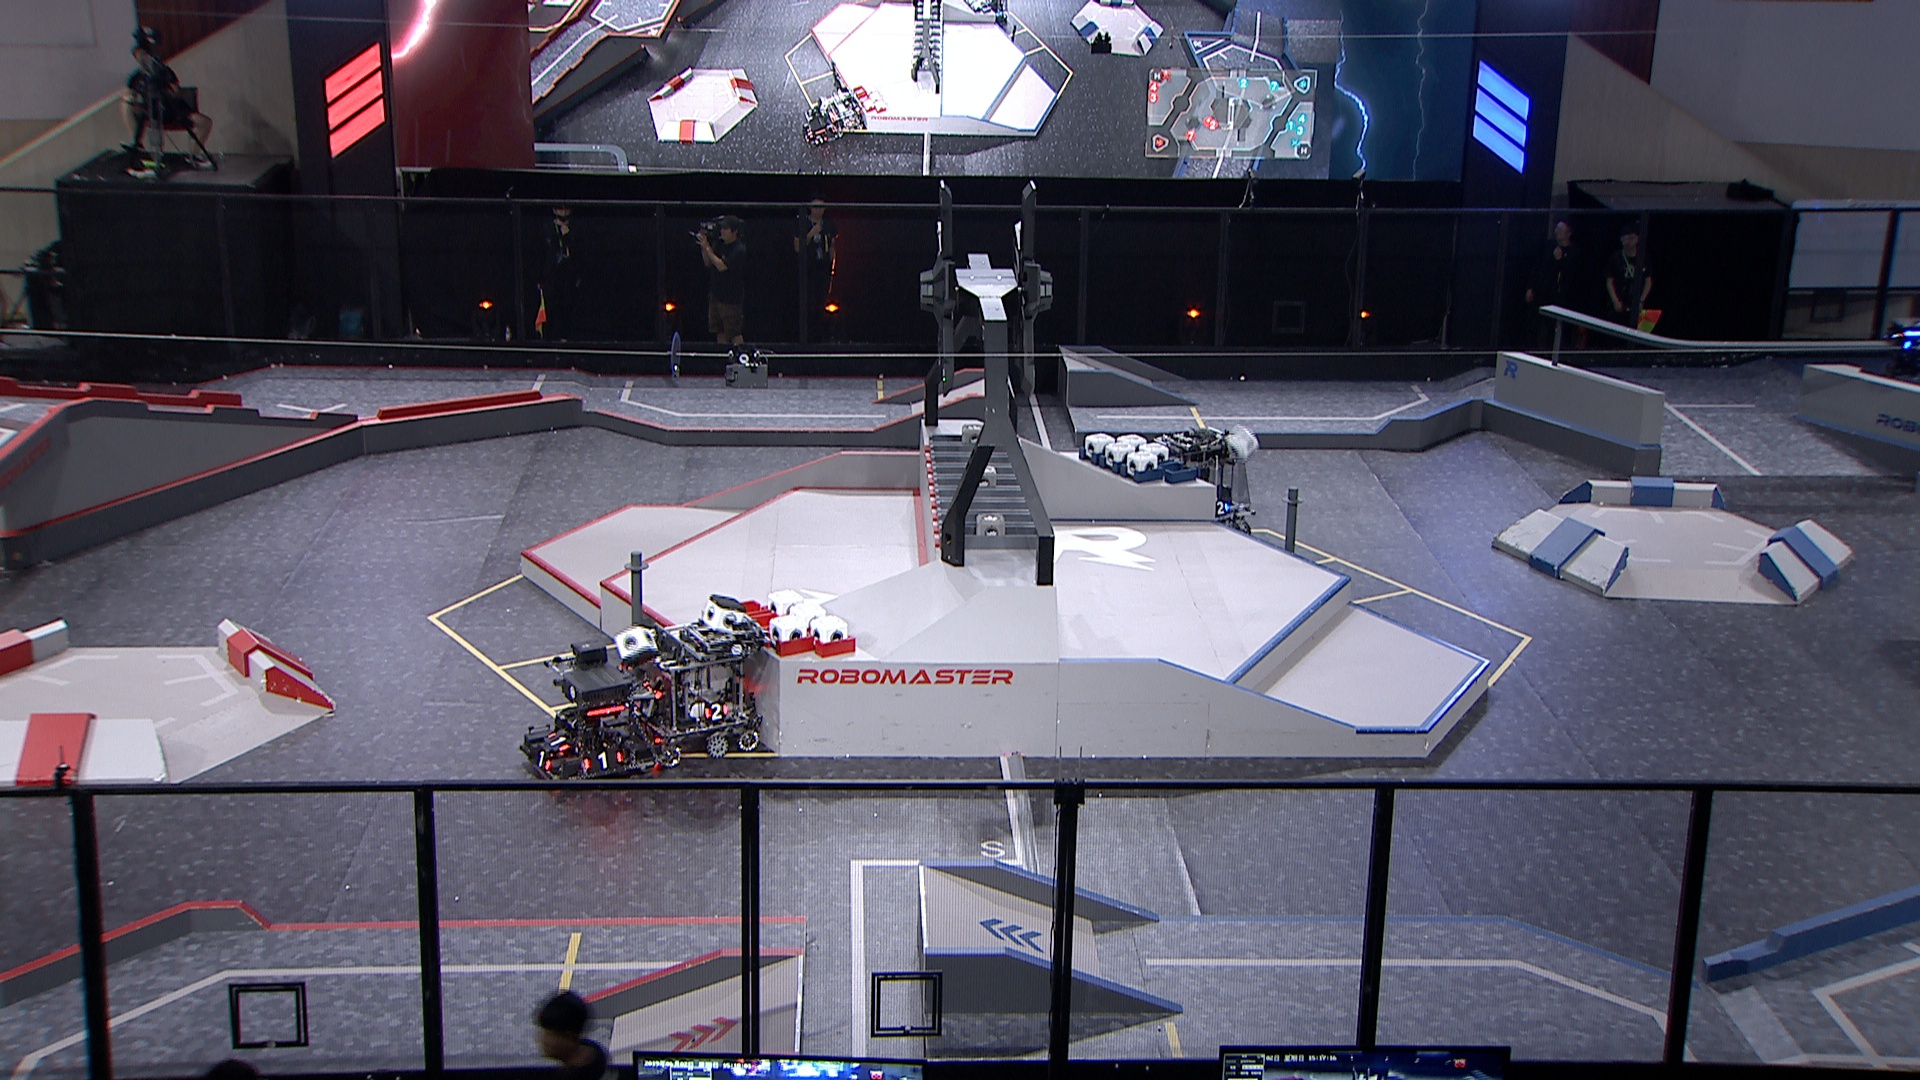armor: (582, 749, 622, 773), (702, 702, 731, 723), (529, 746, 553, 771), (543, 731, 571, 752), (1212, 498, 1230, 517)
car: (629, 612, 769, 766), (516, 651, 657, 796), (1153, 429, 1259, 542)
ignore: (802, 104, 841, 148), (825, 87, 861, 135)
watcher: (1884, 316, 1920, 375)
